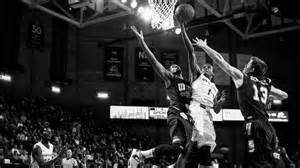basketball: (176, 5, 192, 21)
